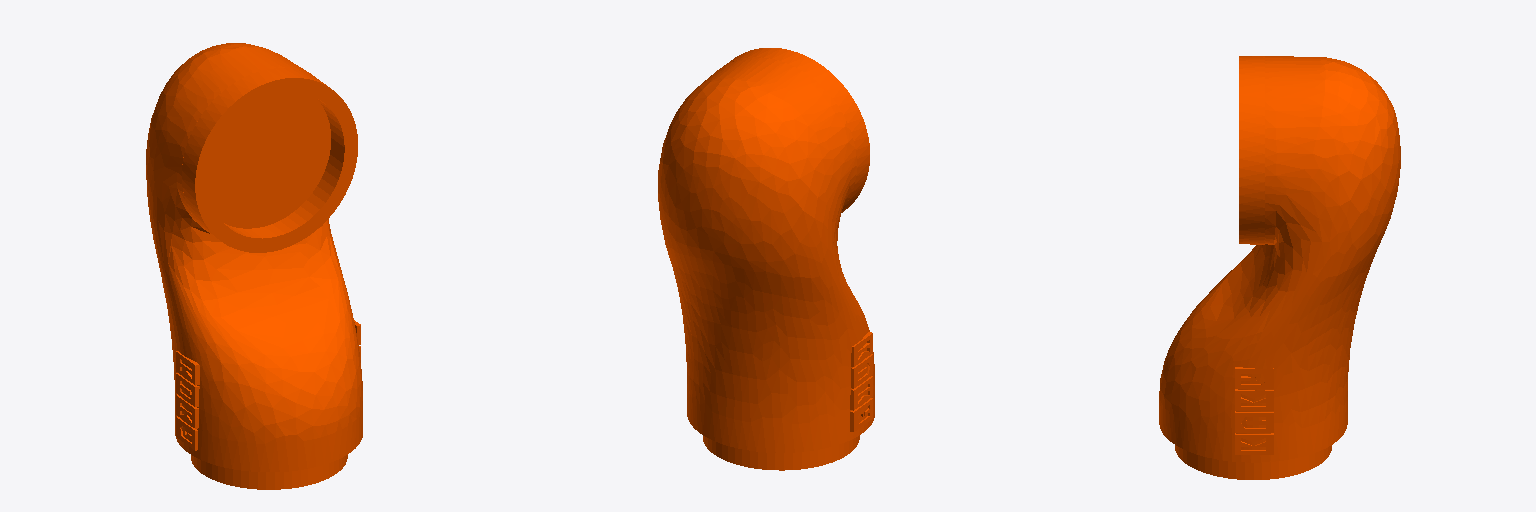
The picture shows the model from 3 angles: view 1: azimuth 30°, elevation 25°; view 2: azimuth 150°, elevation 25°; view 3: azimuth 270°, elevation 25°; orthographic projection.
Visible parts, largest first — view 1: link3_object.004; view 2: link3_object.004; view 3: link3_object.004.
Part boxes in pixels (x1,y1,x2,y2): link3_object.004: (146,43,362,489); link3_object.004: (658,48,874,470); link3_object.004: (1159,56,1400,479).
Bounding box in the file's own units: 0.122 × 0.2685 × 0.1537.